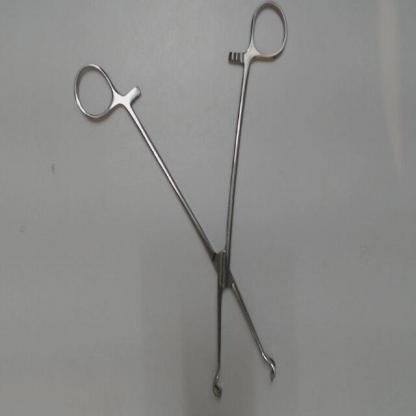8 Babcock Tissue Forceps: (68, 1, 296, 409)
